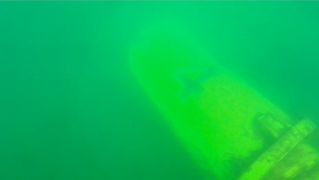4: (174, 62, 220, 99)
pipe: (122, 15, 319, 180)
